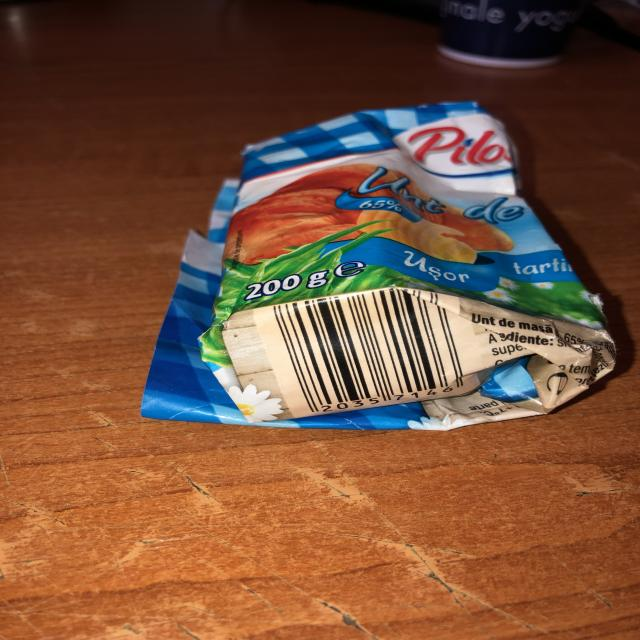butter: (148, 97, 616, 429)
